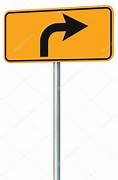right: (3, 7, 111, 61)
